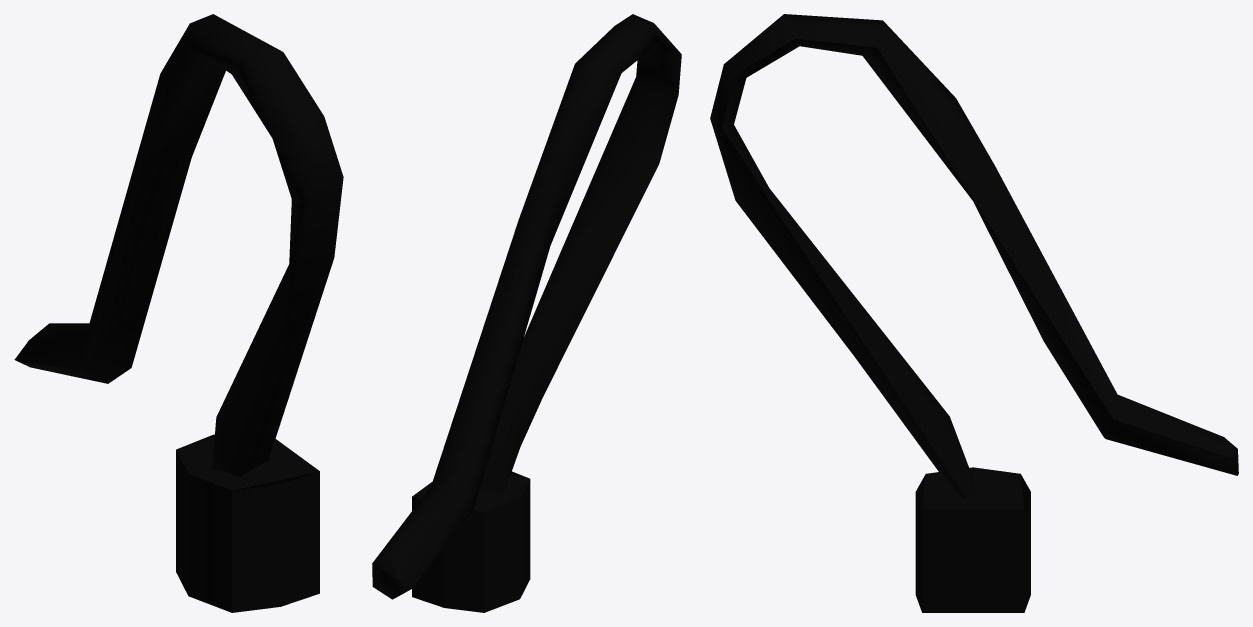
Rendered from powercord1_lod3.fbx.
3 renders of one model, left to right at view 1: azimuth 30°, elevation 25°; view 2: azimuth 150°, elevation 25°; view 3: azimuth 270°, elevation 25°, orthographic. The views are drawn at different scales.
Parts seen in each view (by area): view 1: cord4, plug4; view 2: cord4, plug4; view 3: cord4, plug4.
Part boxes in pixels (x1,y1,x2,y2): cord4: (14, 14, 343, 490); plug4: (176, 434, 319, 612); cord4: (372, 14, 681, 599); plug4: (412, 471, 530, 612); cord4: (710, 14, 1238, 498); plug4: (915, 467, 1030, 612).
Size of the model in its own units: 0.1712 by 0.6389 by 0.5671.
